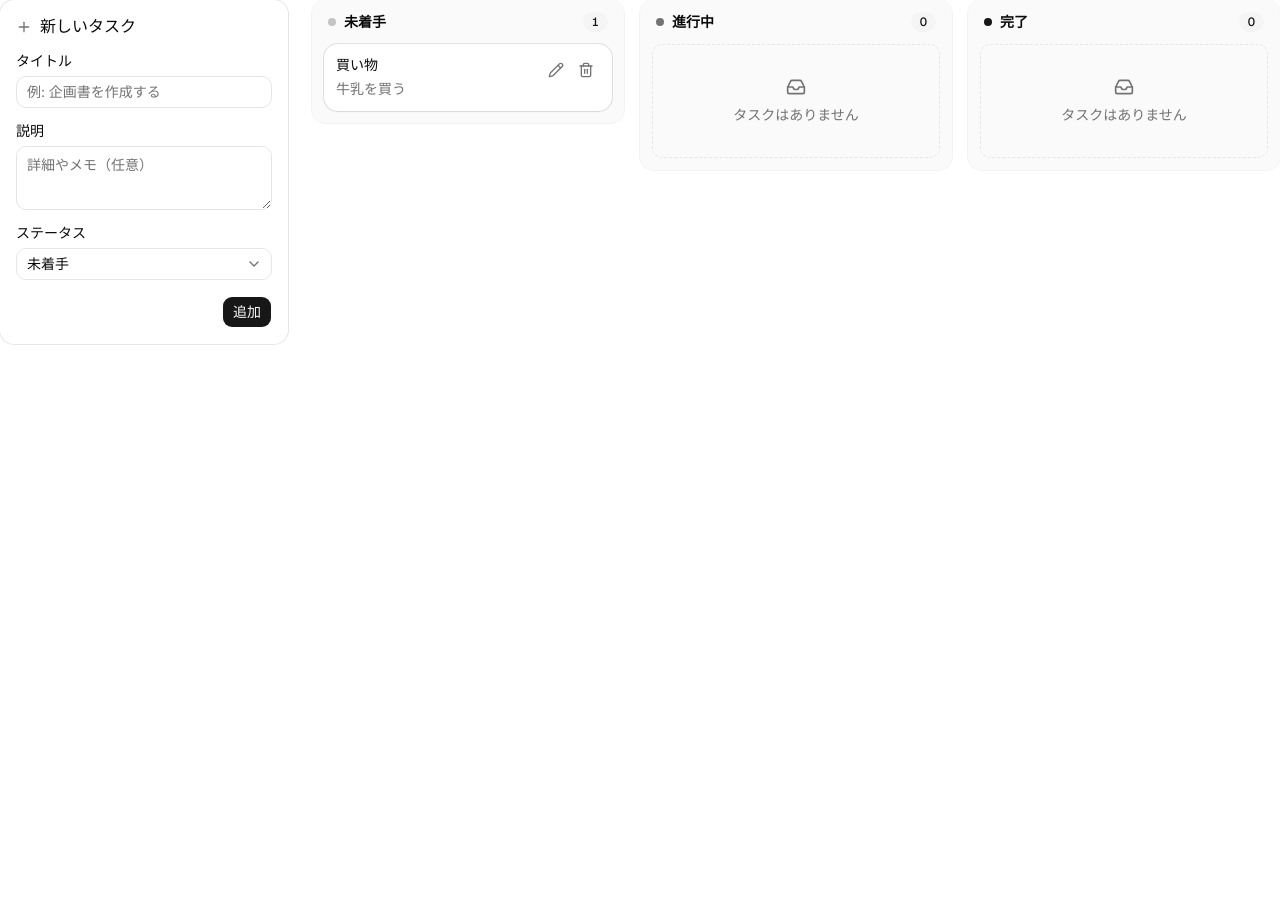
it: タスクの削除 › 確認ダイアログでキャンセルすると、ダイアログが閉じてタスクは残る
This screenshot has width=1280, height=900.
Click the button named "削除" at (586, 70), box [572, 56, 600, 84]
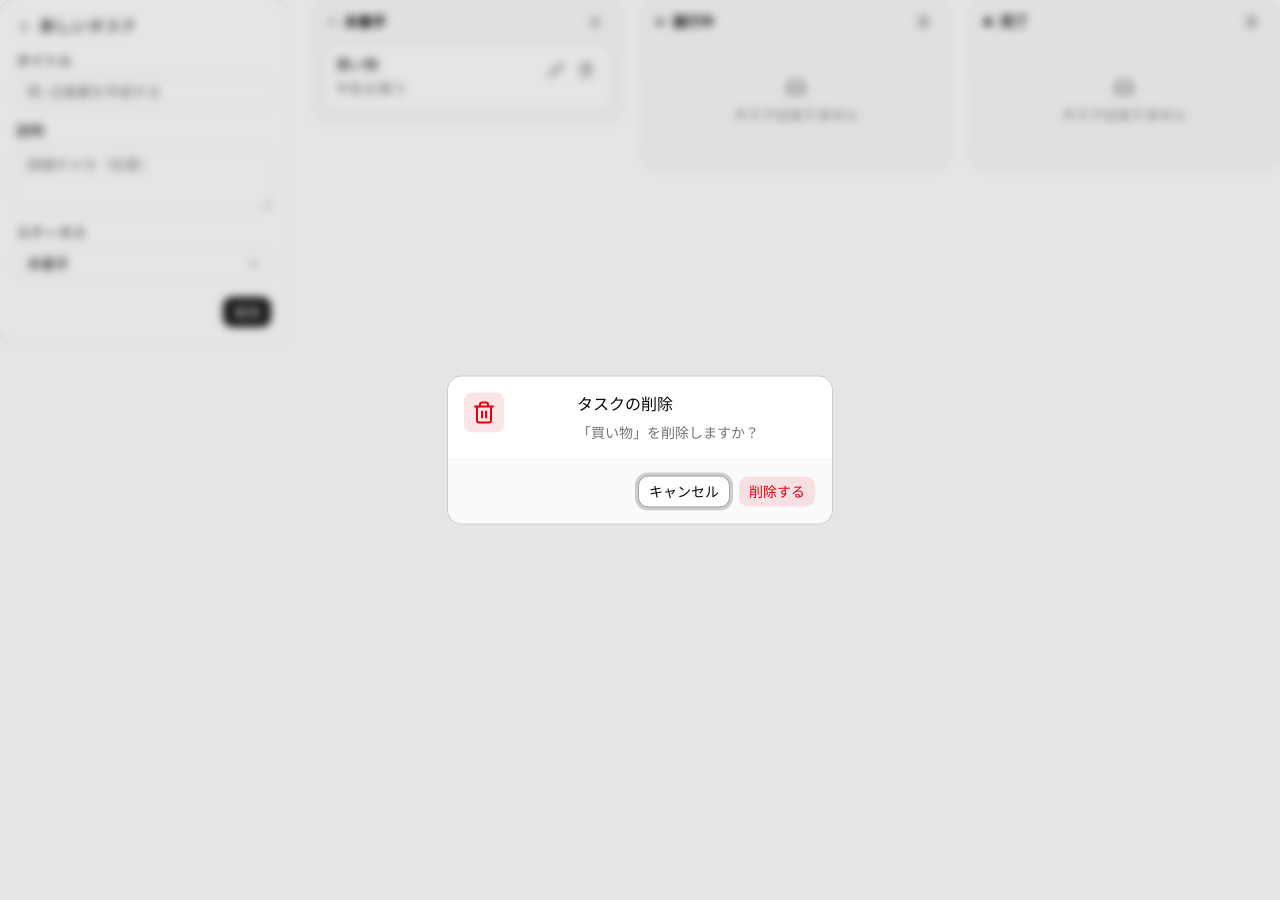
Click the button "キャンセル" at (684, 492), box [638, 476, 730, 508]
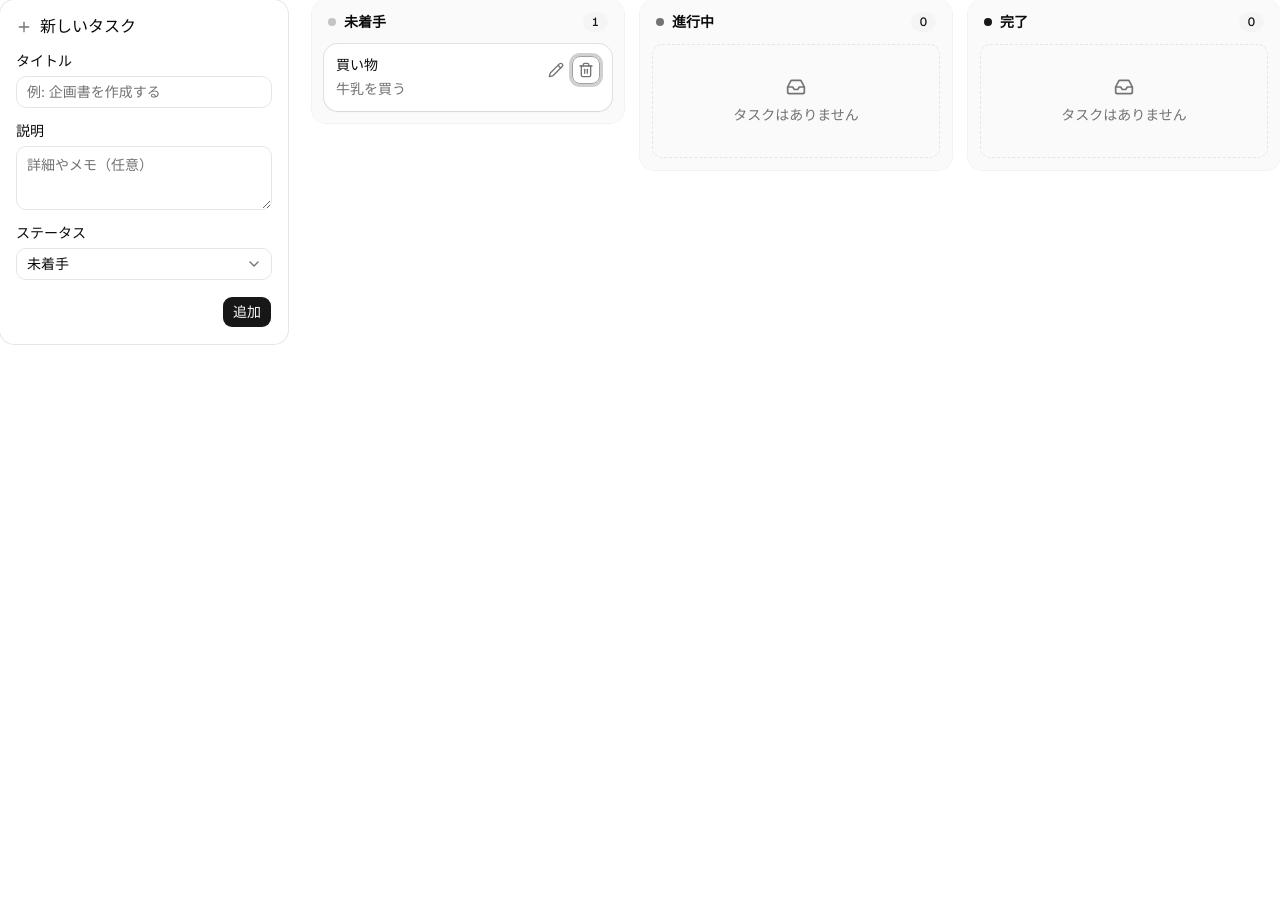
Expected: the element "買い物" is shown, [324, 44, 612, 111]
Now the dialog is gone
